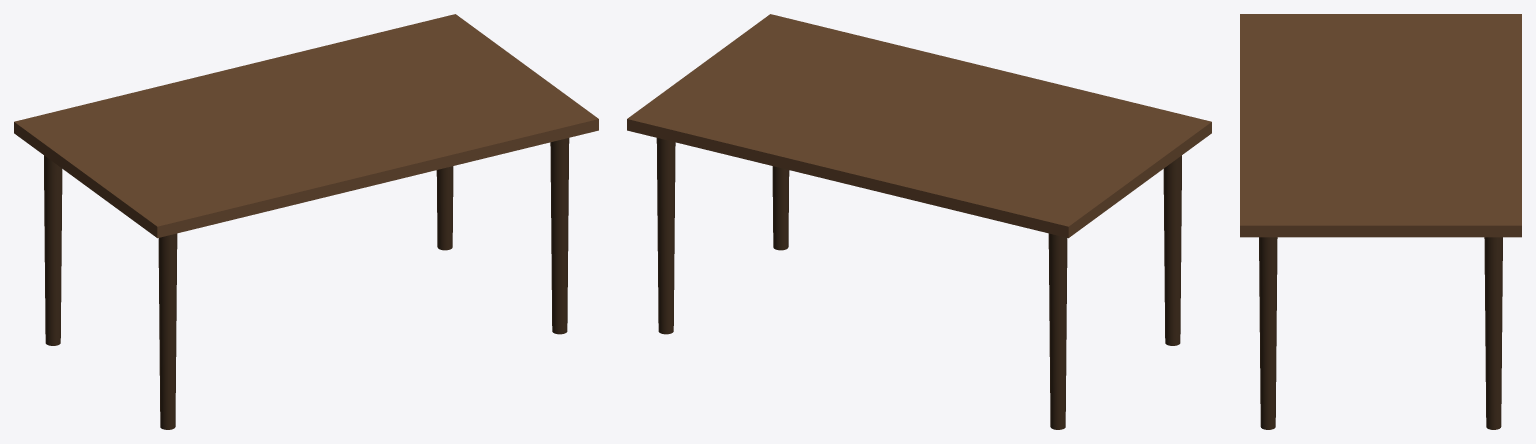
File: table_dining_6.glb
3 renders of one model, left to right at view 1: azimuth 30°, elevation 25°; view 2: azimuth 150°, elevation 25°; view 3: azimuth 270°, elevation 25°, orthographic.
Visible parts, largest first — view 1: furniture; view 2: furniture; view 3: furniture.
Part boxes in pixels (x1,y1,x2,y2): furniture: (14, 14, 598, 429); furniture: (627, 14, 1211, 429); furniture: (1240, 14, 1521, 429).
Size of the model in its own units: 1.6 by 0.75 by 0.9.
